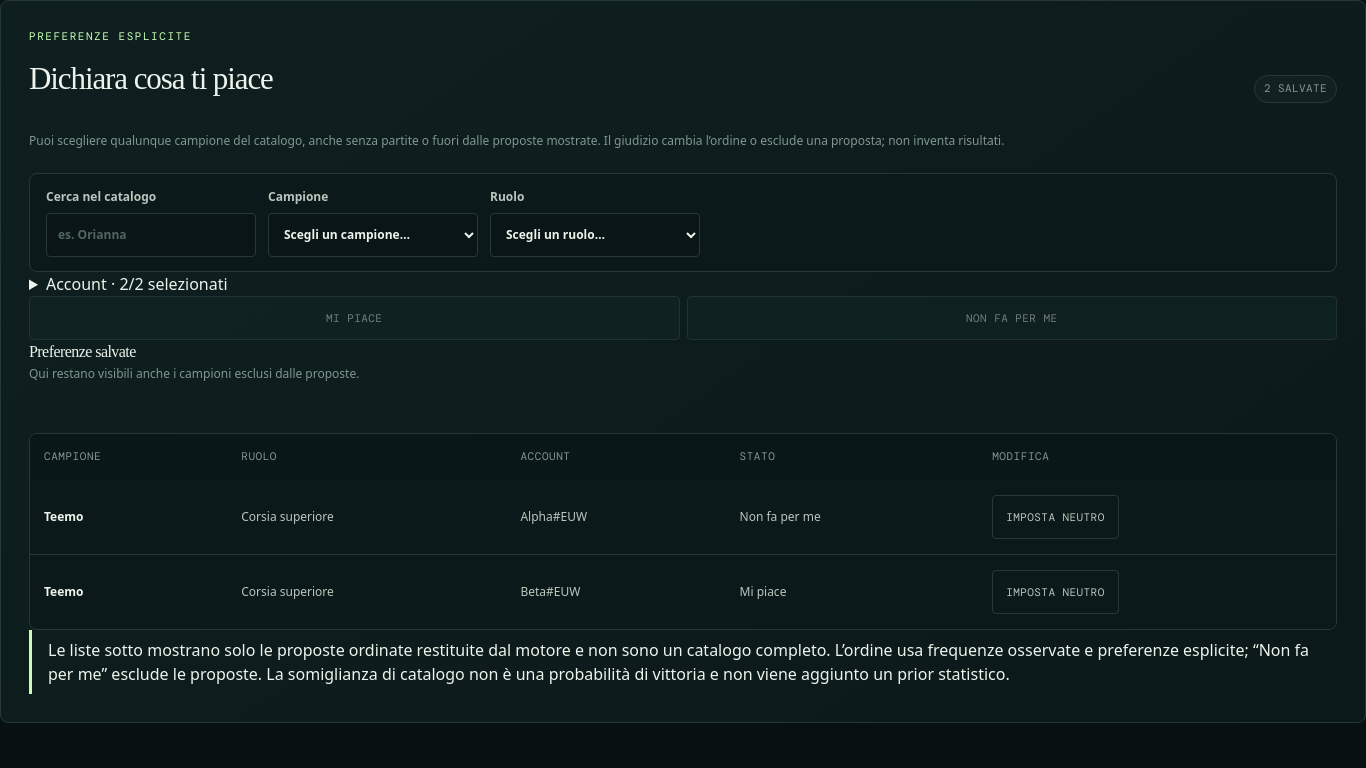
Test: PreferenceEditor › azzera una scelta che la ricerca rende invisibile e impedisce il salvataggio
This screenshot has width=1366, height=768.
Select "Ahri" in the dropdown named "Campione della preferenza" at (373, 235), box [268,213,478,257]
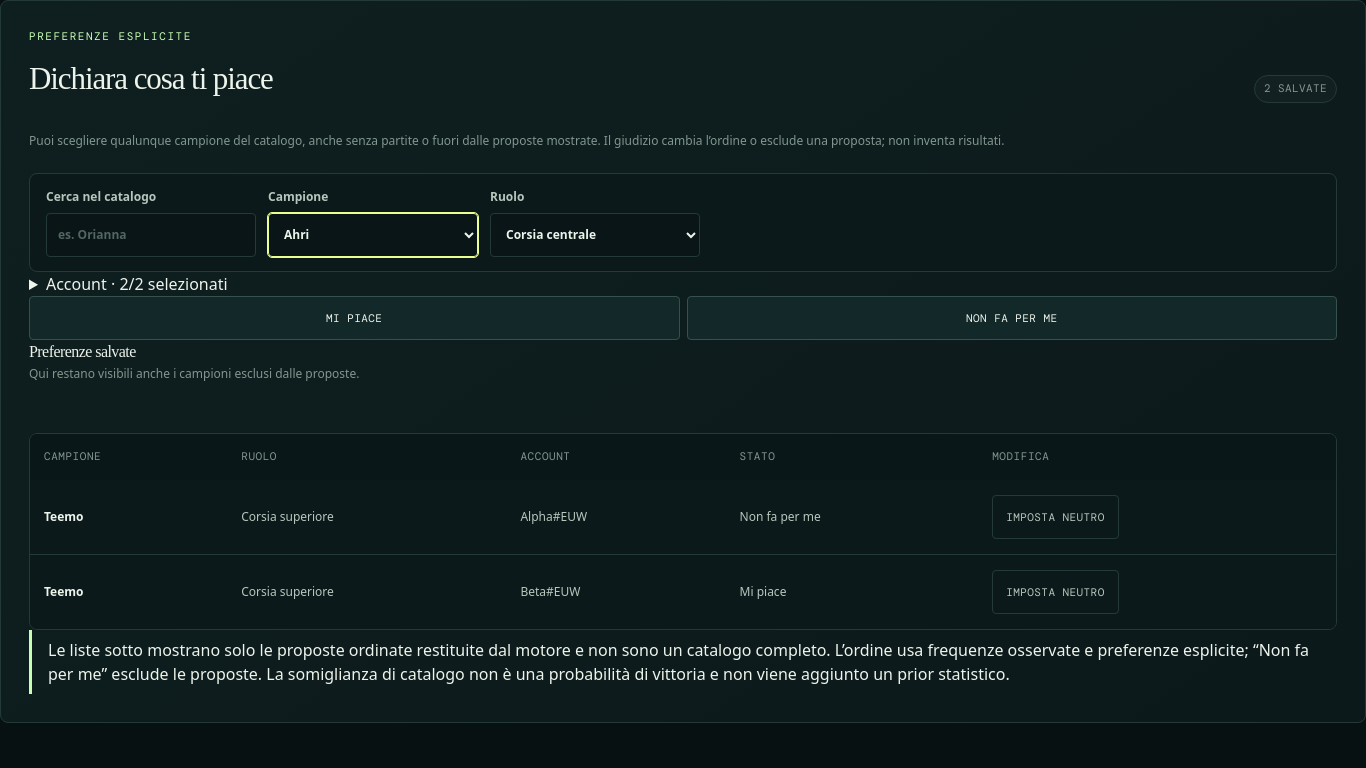
Expected: the dropdown named "Ruolo della preferenza" shows "Corsia centrale", [490,213,700,257]
Type "Zed" into the field labelled "Cerca nel catalogo" at (151, 235), box [46,213,256,257]
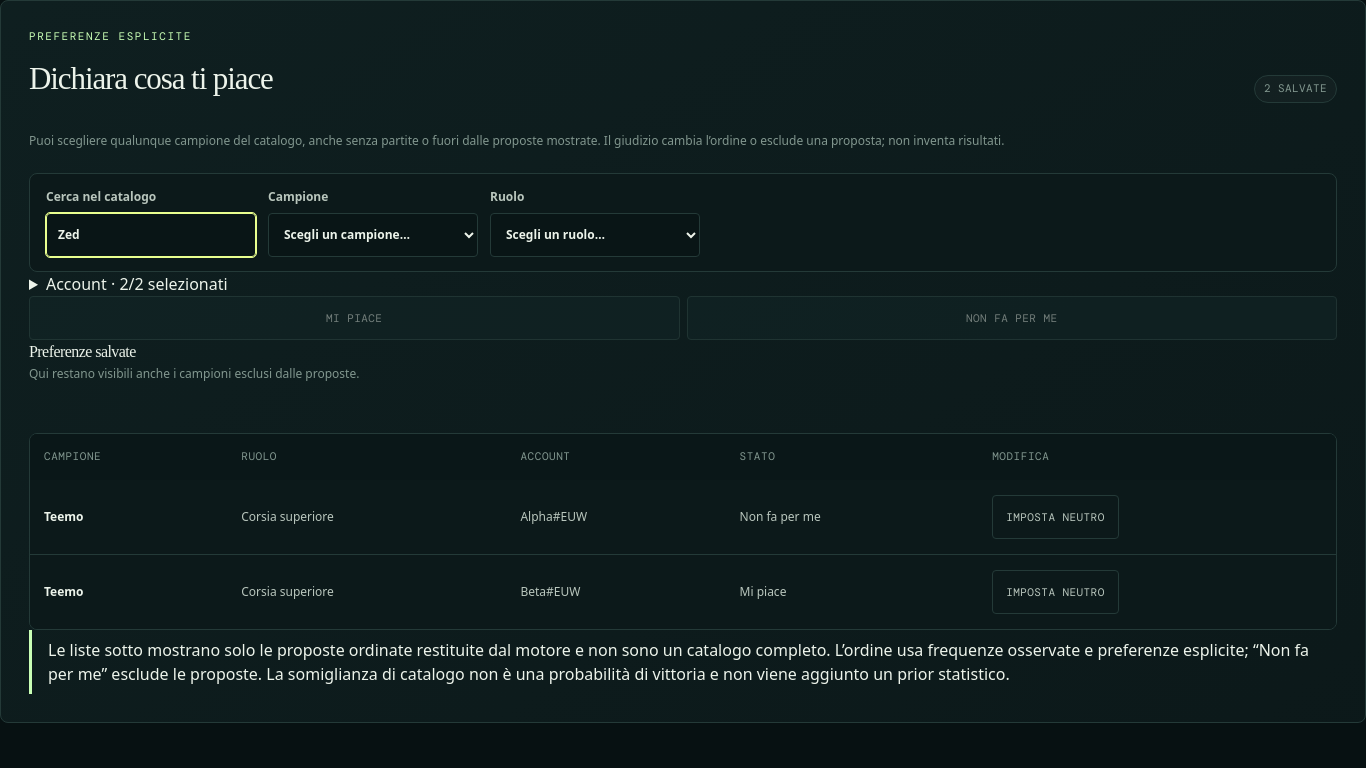
Expected: the dropdown named "Ruolo della preferenza" is disabled, [490,213,700,257]
Expected: the button "Mi piace" is disabled, [29,296,680,340]
